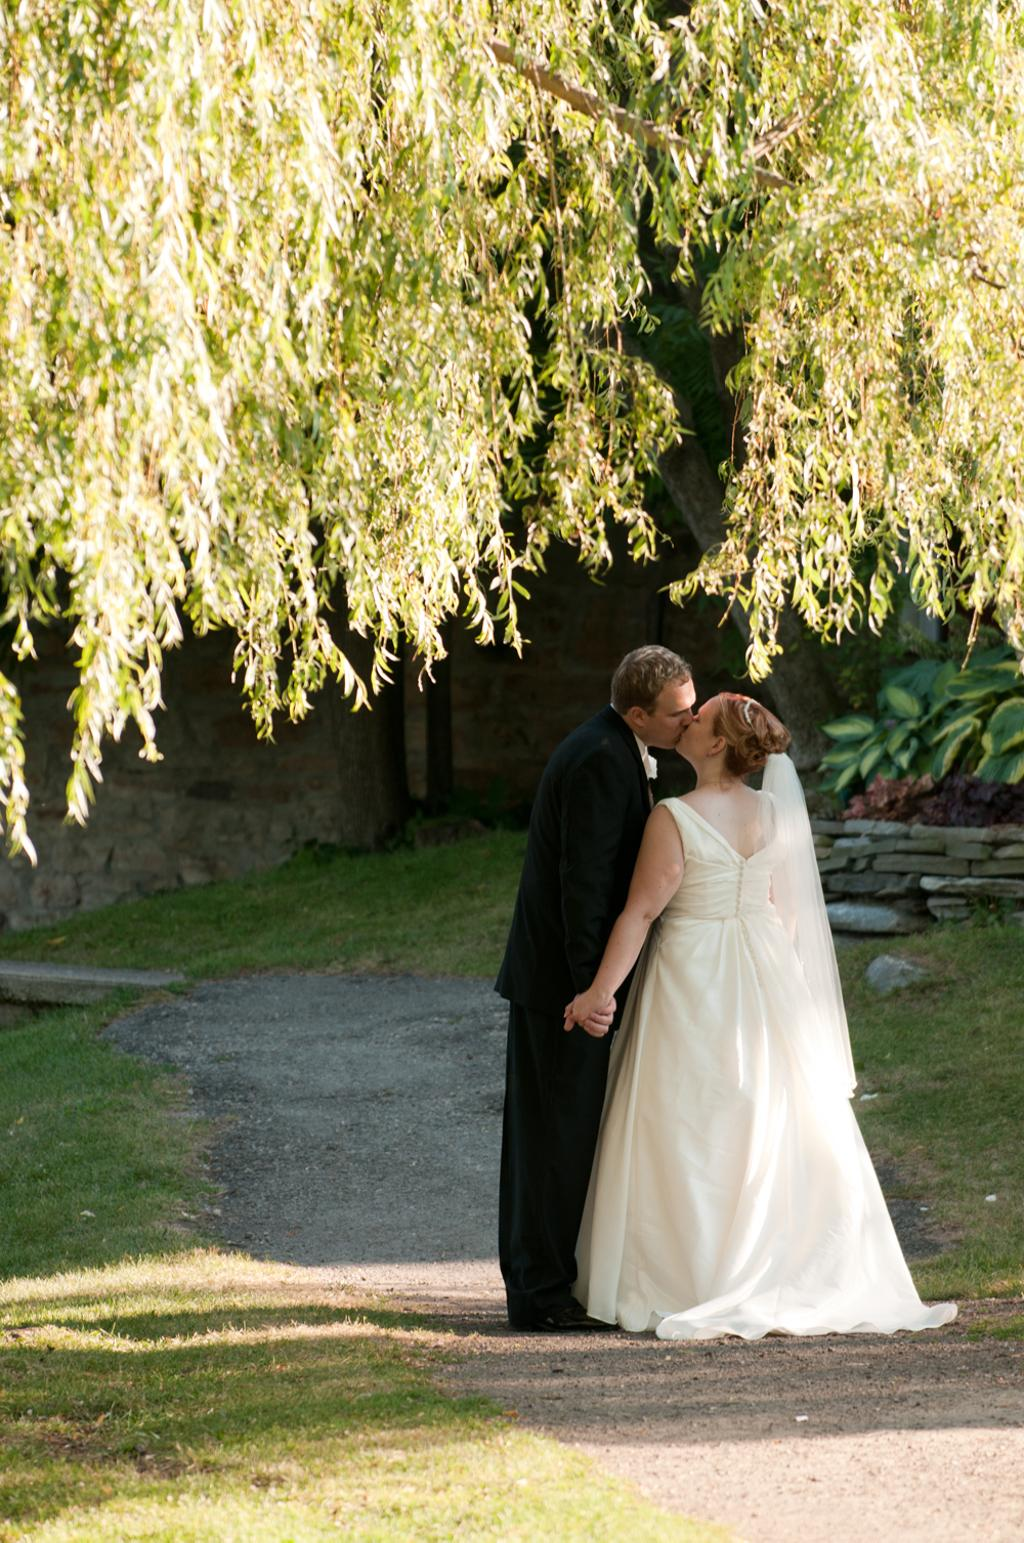face: (647, 674, 696, 749), (674, 693, 725, 752)
